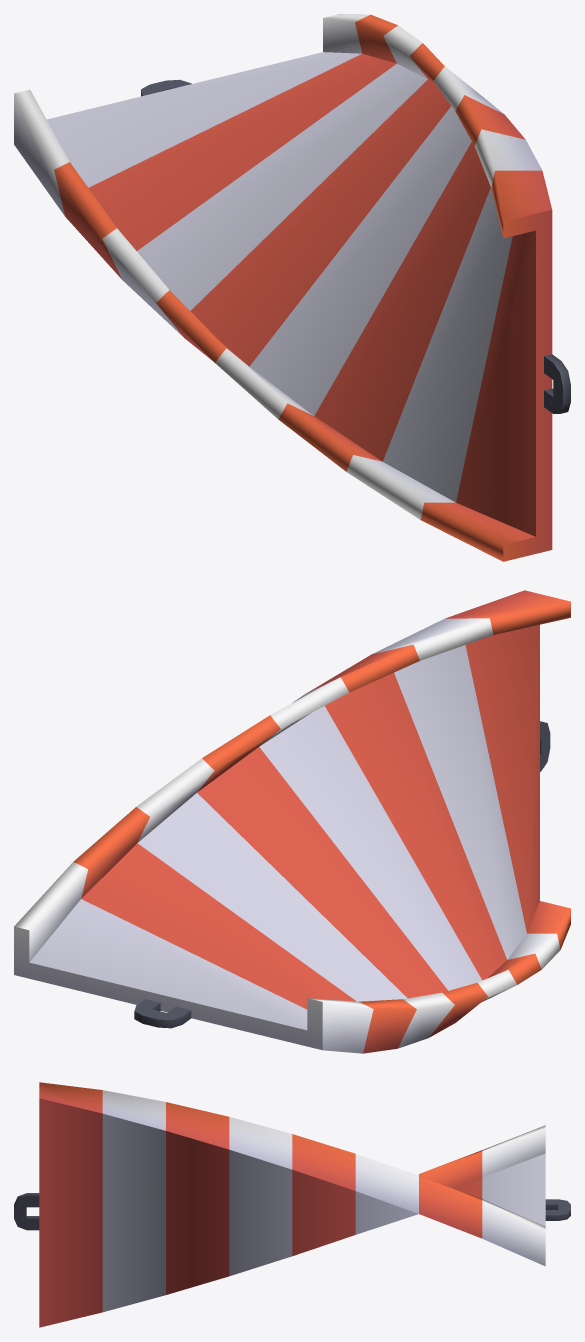
Rendered from track-striped-wide-straight-skew-right-side.glb.
3 renders of one model, top to bottom at view 1: azimuth 30°, elevation 25°; view 2: azimuth 150°, elevation 25°; view 3: azimuth 270°, elevation 25°, orthographic. The views are drawn at different scales.
Parts seen in each view (by area): view 1: track-striped-wide-straight-skew-right-side; view 2: track-striped-wide-straight-skew-right-side; view 3: track-striped-wide-straight-skew-right-side.
Part boxes in pixels (bbox=[...]): track-striped-wide-straight-skew-right-side: bbox=[14, 14, 570, 561]; track-striped-wide-straight-skew-right-side: bbox=[14, 590, 570, 1053]; track-striped-wide-straight-skew-right-side: bbox=[14, 1082, 570, 1327].
Bounding box in the file's own units: 2.04 × 2.04 × 4.4.
1 material, 1 textured.
